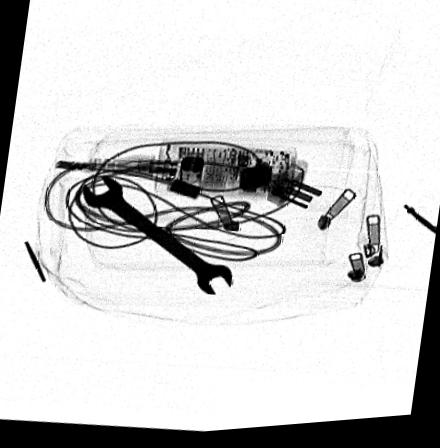Wrench: (80, 177, 232, 302)
